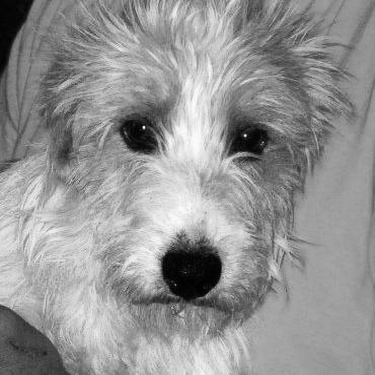dog: (5, 1, 353, 371)
